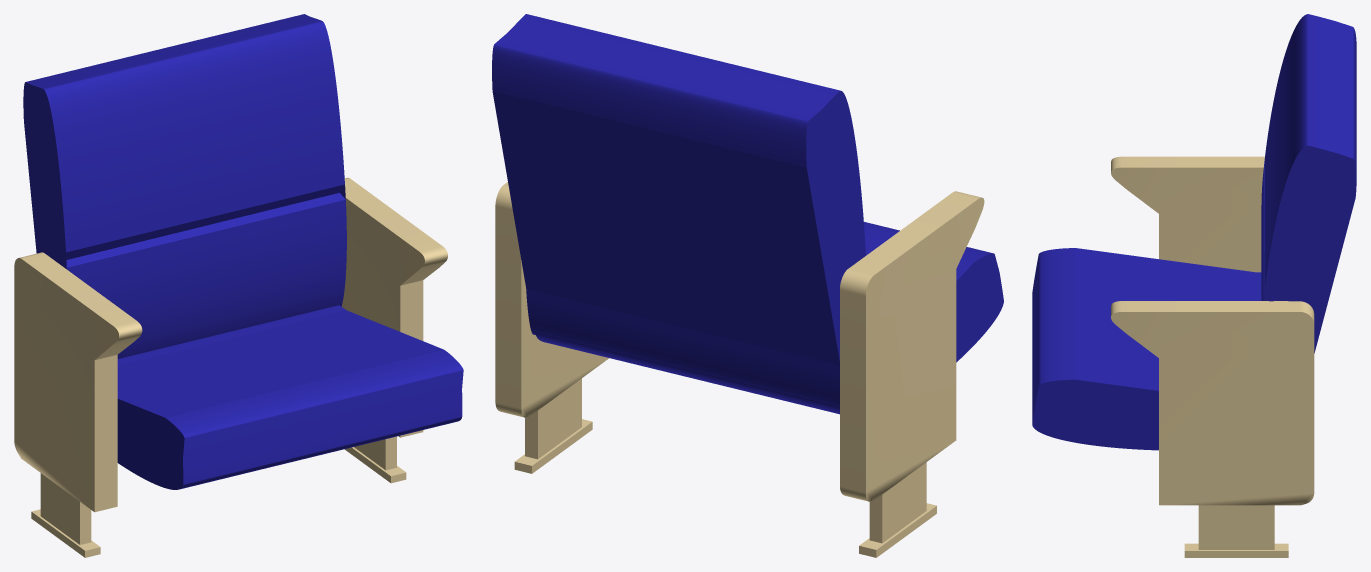
Rendered from Butaca_Cine_Azul.fbx.
3 renders of one model, left to right at view 1: azimuth 30°, elevation 25°; view 2: azimuth 150°, elevation 25°; view 3: azimuth 270°, elevation 25°, orthographic. The views are drawn at different scales.
Parts seen in each view (by area): view 1: Butaca_Cine; view 2: Butaca_Cine; view 3: Butaca_Cine.
Part boxes in pixels (left/top/right/bottom): Butaca_Cine: left=14, top=14, right=463, bottom=557; Butaca_Cine: left=492, top=14, right=1003, bottom=557; Butaca_Cine: left=1032, top=14, right=1356, bottom=557.
Bounding box in the file's own units: 311 × 375 × 274.
